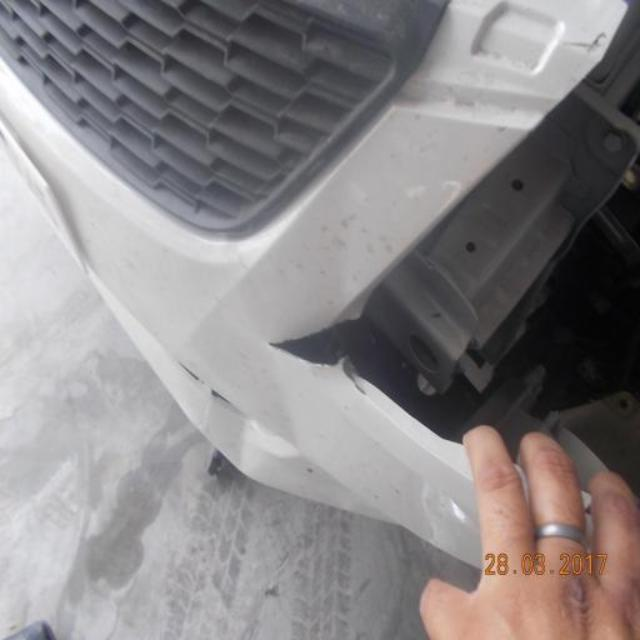dislocated part: (269, 292, 368, 394)
